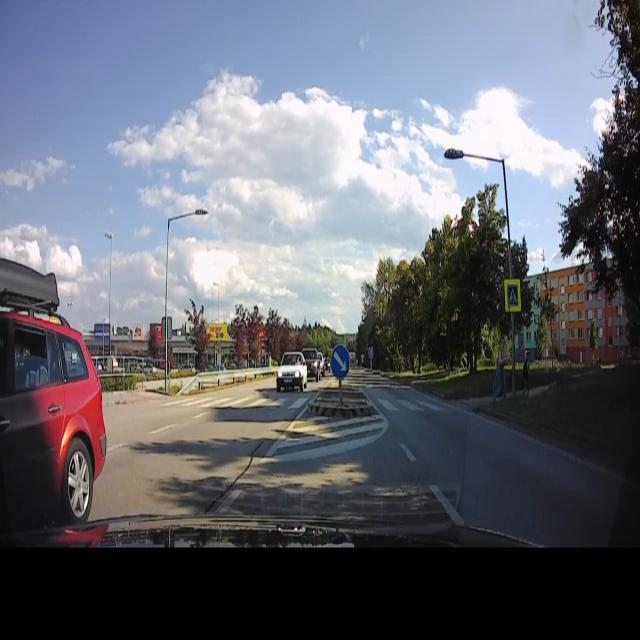Pedestrian crosswalk: (168, 387, 312, 413), (378, 389, 446, 417), (506, 284, 520, 308)
Person: (492, 334, 510, 410), (522, 350, 532, 404)
